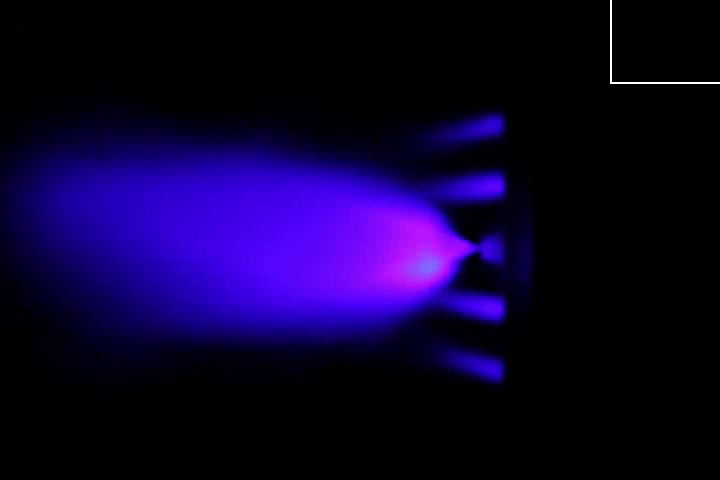burner cap: (478, 234, 504, 268)
pilot flame: (418, 165, 507, 198), (434, 283, 505, 323), (415, 109, 503, 141), (437, 352, 507, 384)
stable: (352, 205, 475, 287)
